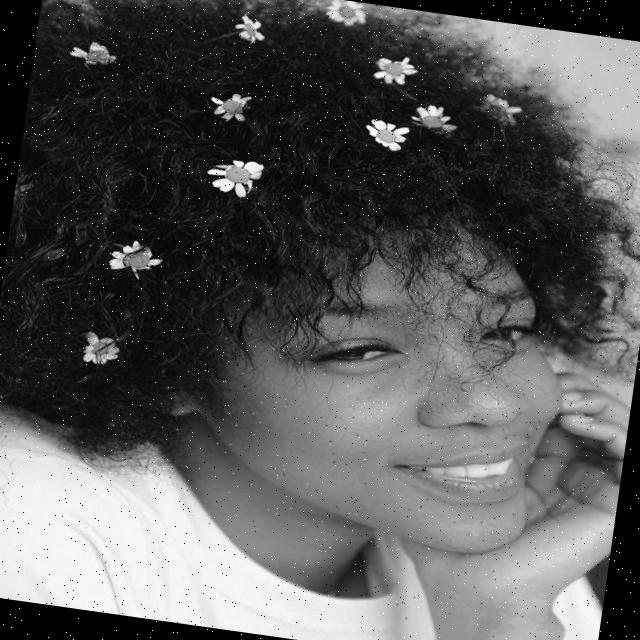Happiness: (179, 191, 588, 566)
